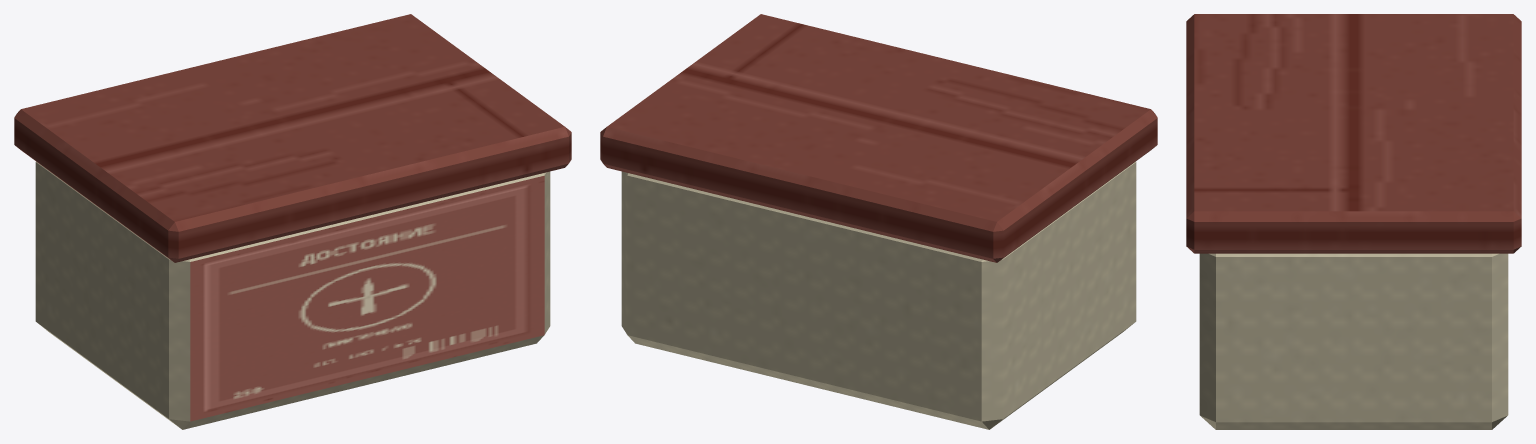
The model's file is MD_87_Shoebox.fbx.
3 views of the same model, side by side, from view 1: azimuth 30°, elevation 25°; view 2: azimuth 150°, elevation 25°; view 3: azimuth 270°, elevation 25° (orthographic). The views are drawn at different scales.
Parts seen in each view (by area): view 1: MD_87_Shoebox_shoebox_body, MD_87_Shoebox_lift_off_lid; view 2: MD_87_Shoebox_shoebox_body, MD_87_Shoebox_lift_off_lid; view 3: MD_87_Shoebox_lift_off_lid, MD_87_Shoebox_shoebox_body.
Boxes of the visible parts, bbox=[...] form: MD_87_Shoebox_shoebox_body: bbox=[35, 161, 550, 429]; MD_87_Shoebox_lift_off_lid: bbox=[14, 14, 571, 262]; MD_87_Shoebox_shoebox_body: bbox=[621, 161, 1136, 429]; MD_87_Shoebox_lift_off_lid: bbox=[600, 14, 1157, 262]; MD_87_Shoebox_lift_off_lid: bbox=[1186, 14, 1521, 253]; MD_87_Shoebox_shoebox_body: bbox=[1199, 253, 1508, 429].
Size of the model in its own units: 0.36 by 0.1875 by 0.25.
Materials: 3 (3 with a texture image).
